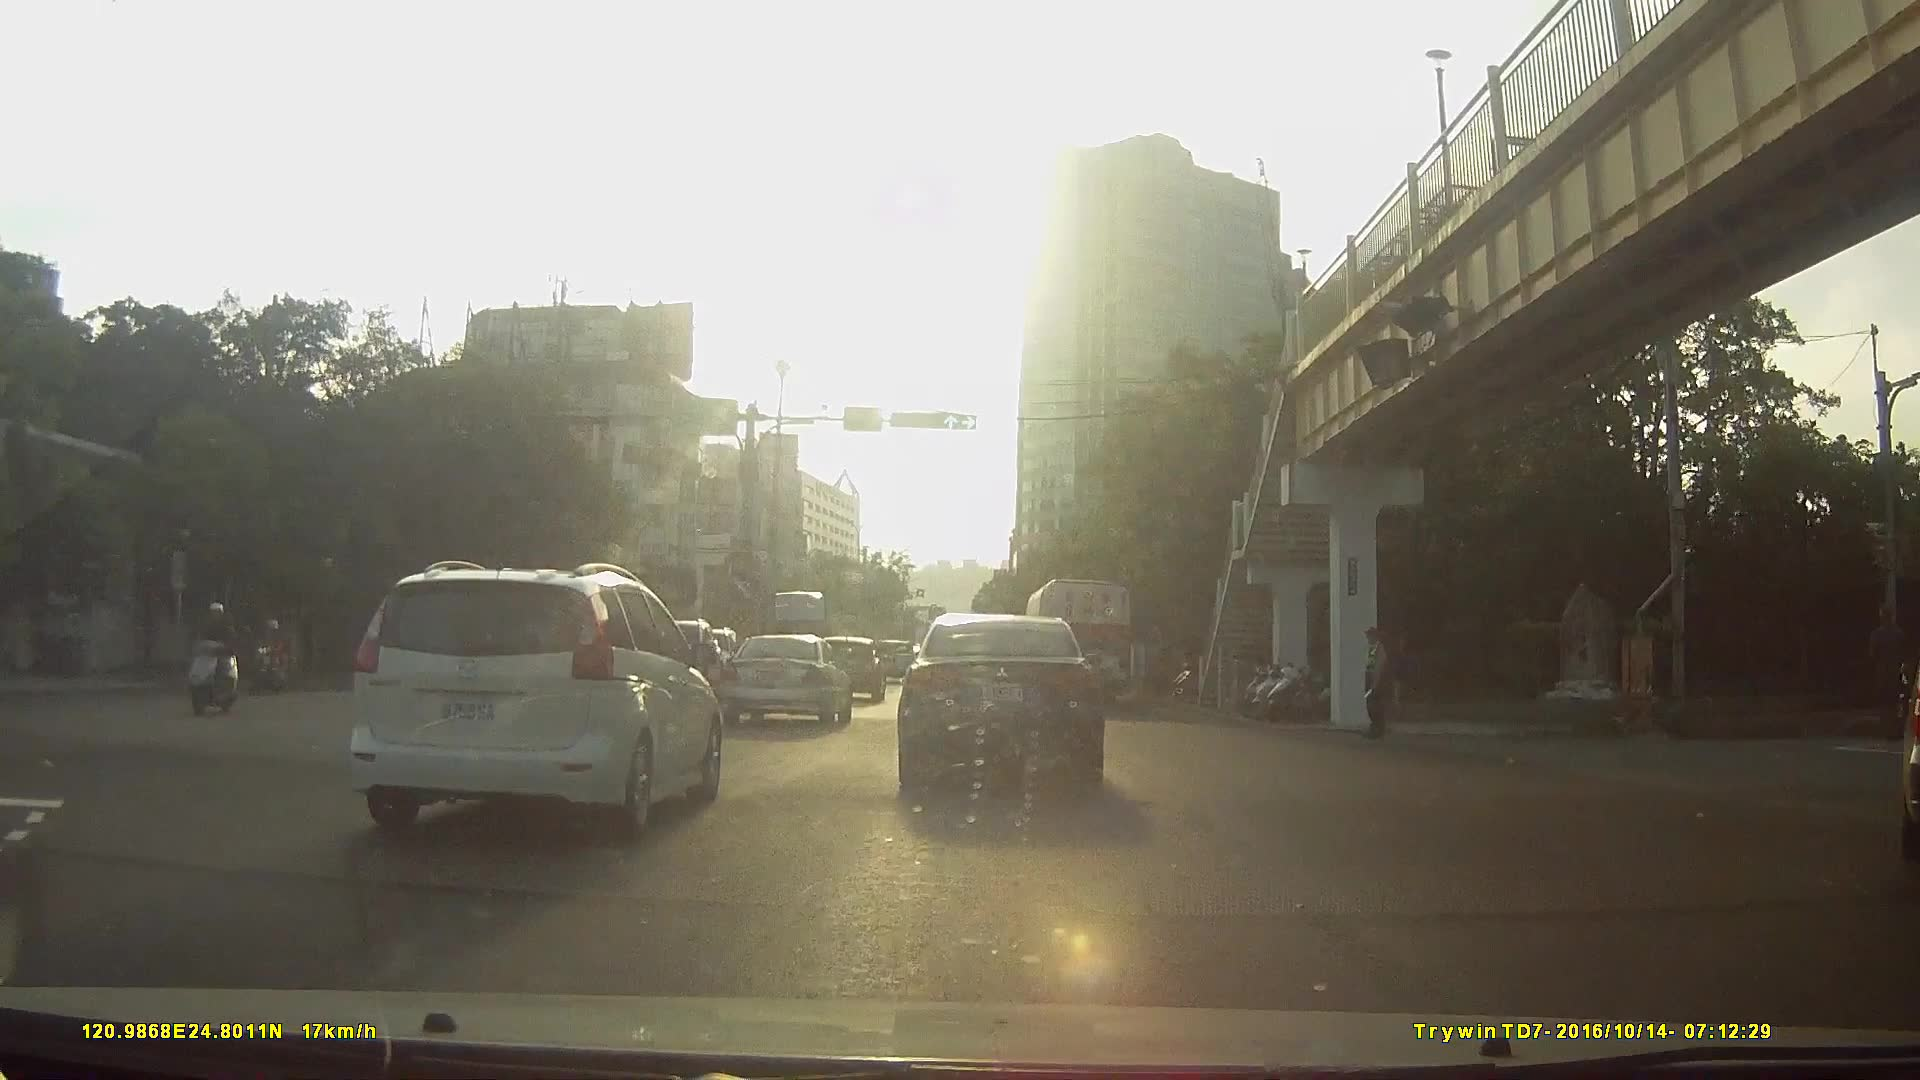pedestrian: (1358, 626, 1398, 746)
rider: (183, 601, 244, 714), (248, 618, 290, 694)
vehicle: (345, 563, 718, 846), (894, 611, 1102, 800), (1022, 579, 1129, 709), (715, 638, 852, 734), (807, 637, 879, 706), (864, 639, 913, 688)
